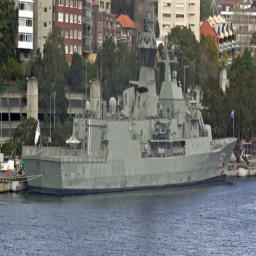Fragata: (22, 13, 242, 198)
